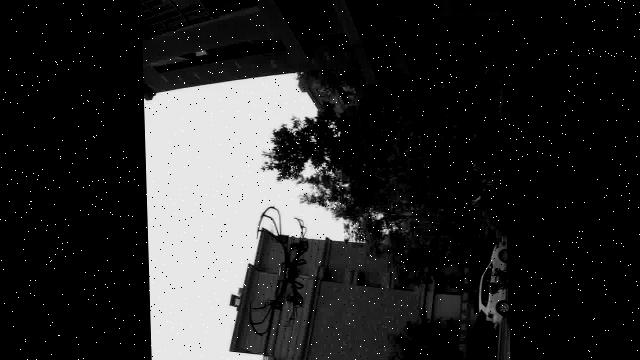drone: (242, 201, 317, 347)
